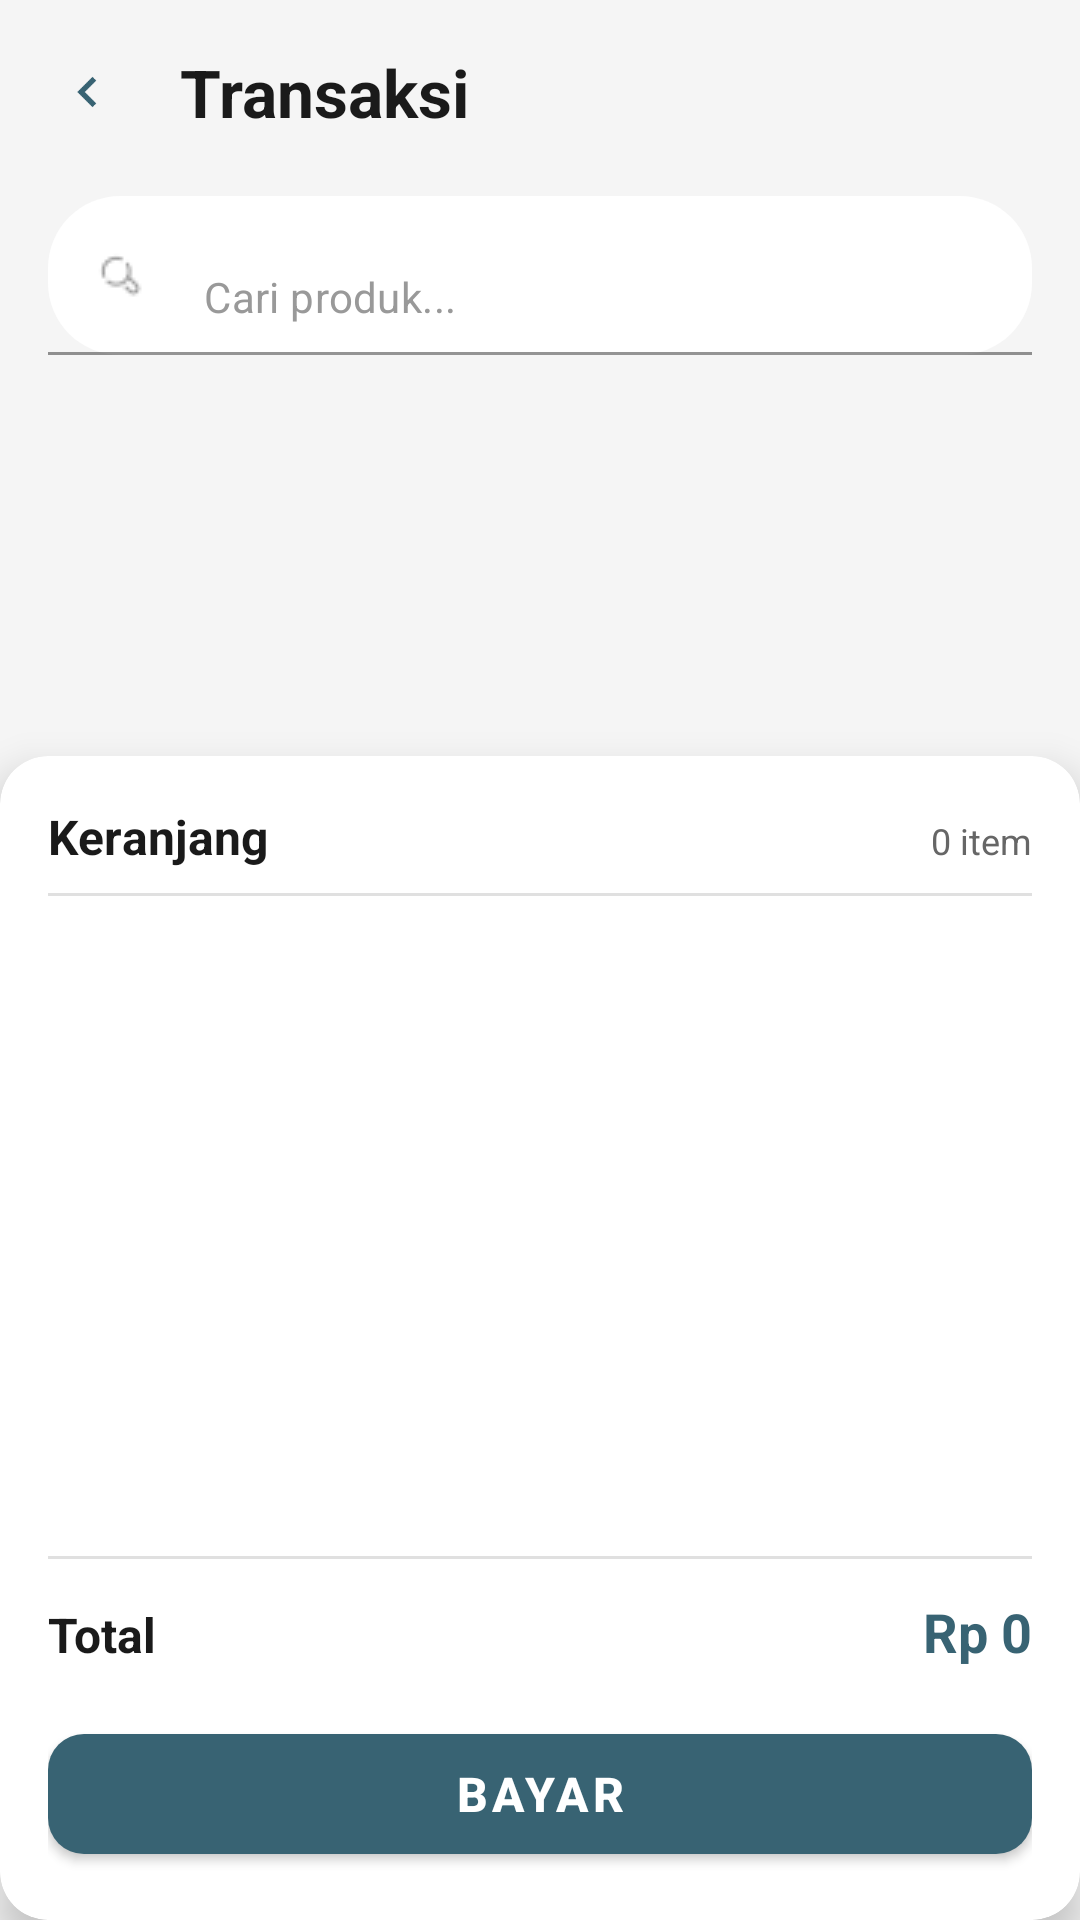

Icon bounding boxes for this 1080x1920 phone screenshot, format region(x1, y1, x2, y2):
Kembali: region(77, 77, 96, 107)
